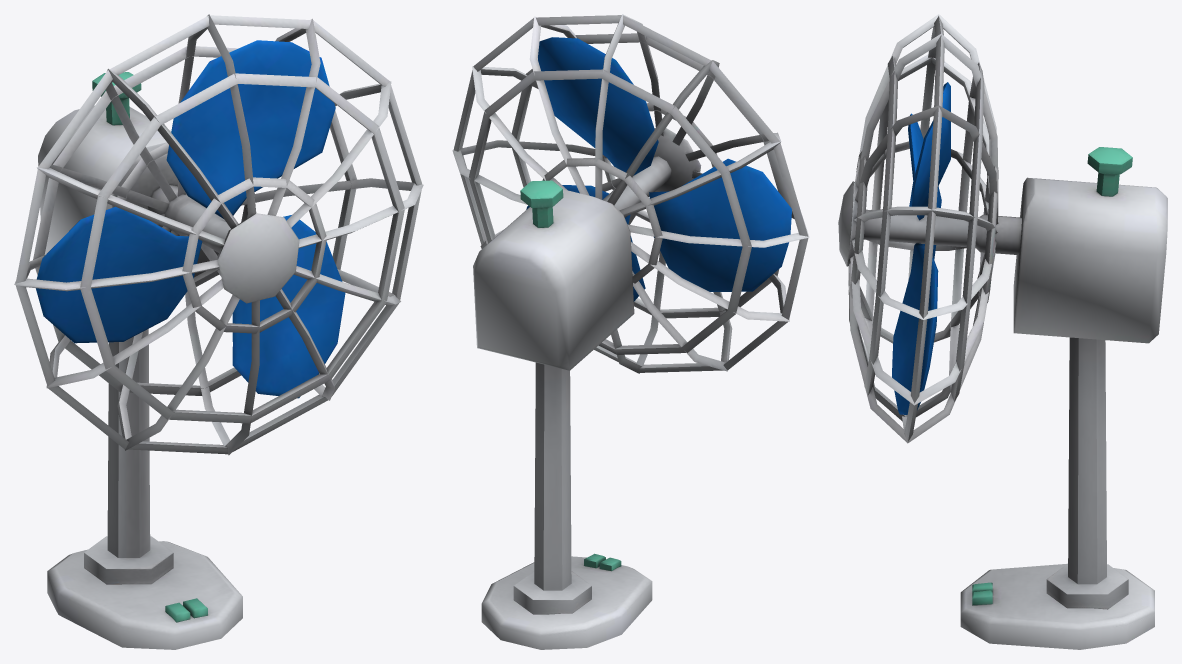
The model's file is GroundFan.FBX.
The picture shows the model from 3 angles, left to right: view 1: azimuth 30°, elevation 25°; view 2: azimuth 150°, elevation 25°; view 3: azimuth 270°, elevation 25°; orthographic projection. The views are drawn at different scales.
Visible parts, largest first — view 1: GroundFan; view 2: GroundFan; view 3: GroundFan.
Boxes of the visible parts, bbox=[...] form: GroundFan: bbox=[14, 14, 423, 649]; GroundFan: bbox=[452, 14, 809, 649]; GroundFan: bbox=[838, 14, 1167, 649].
Size of the model in its own units: 79.44 by 60.48 by 118.
